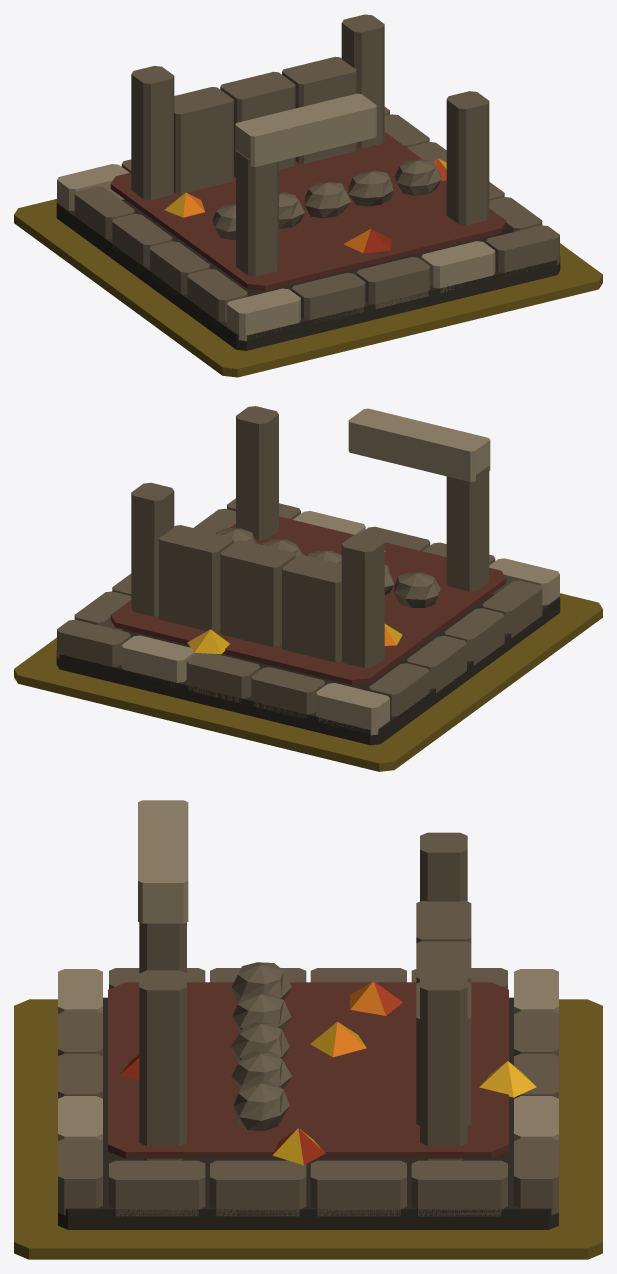
The model's file is sunken-chapel_t2.glb.
The picture shows the model from 3 angles, top to bottom: view 1: azimuth 30°, elevation 25°; view 2: azimuth 150°, elevation 25°; view 3: azimuth 270°, elevation 25°; orthographic projection. The views are drawn at different scales.
Parts seen in each view (by area): view 1: MMR | sunken-chapel | T02 Architecture.001, MMR | sunken-chapel | Tier 02 Ground.001, MMR | sunken-chapel | T02 Autumn Dressing.001; view 2: MMR | sunken-chapel | T02 Architecture.001, MMR | sunken-chapel | Tier 02 Ground.001, MMR | sunken-chapel | T02 Autumn Dressing.001; view 3: MMR | sunken-chapel | T02 Architecture.001, MMR | sunken-chapel | Tier 02 Ground.001, MMR | sunken-chapel | T02 Autumn Dressing.001.
Boxes of the visible parts, <box> form: MMR | sunken-chapel | T02 Architecture.001: <box>56,14,560,350</box>; MMR | sunken-chapel | Tier 02 Ground.001: <box>14,199,602,377</box>; MMR | sunken-chapel | T02 Autumn Dressing.001: <box>164,158,446,253</box>; MMR | sunken-chapel | T02 Architecture.001: <box>56,406,560,745</box>; MMR | sunken-chapel | Tier 02 Ground.001: <box>14,593,602,771</box>; MMR | sunken-chapel | T02 Autumn Dressing.001: <box>187,550,402,654</box>; MMR | sunken-chapel | T02 Architecture.001: <box>58,800,558,1229</box>; MMR | sunken-chapel | Tier 02 Ground.001: <box>14,999,602,1259</box>; MMR | sunken-chapel | T02 Autumn Dressing.001: <box>120,981,536,1165</box>.
Size of the model in its own units: 2.35 by 1.13 by 2.35.
Materials: 1 (1 with a texture image).
